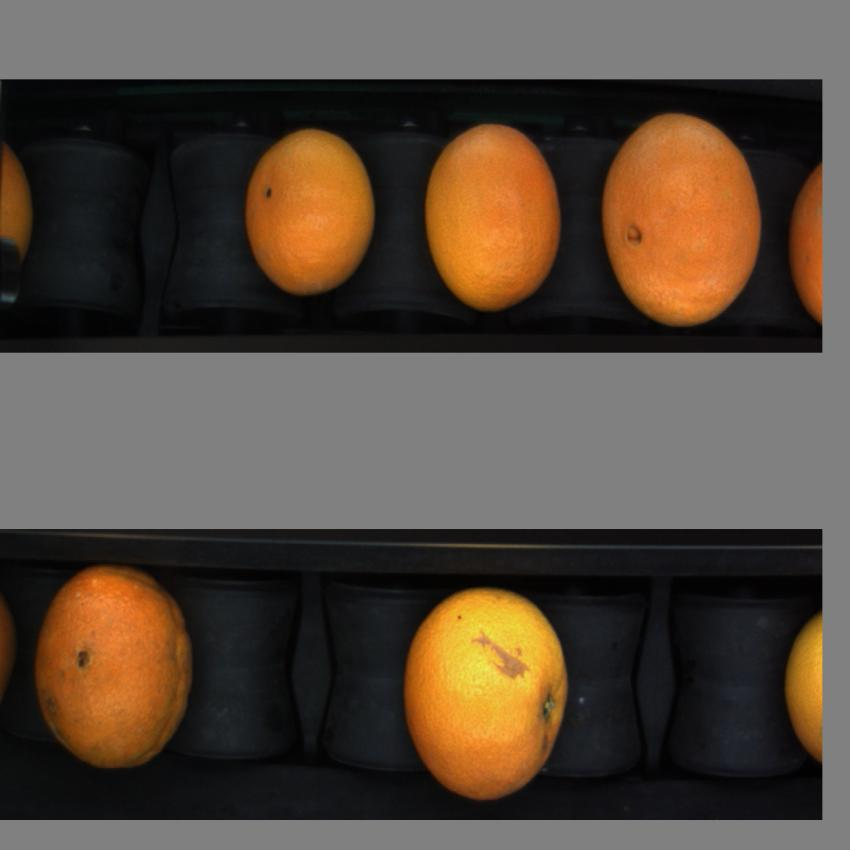Buen estado: (393, 574, 579, 809), (598, 105, 764, 340), (27, 553, 198, 778), (414, 118, 575, 322), (233, 126, 384, 307), (778, 600, 822, 784), (784, 151, 823, 335)
